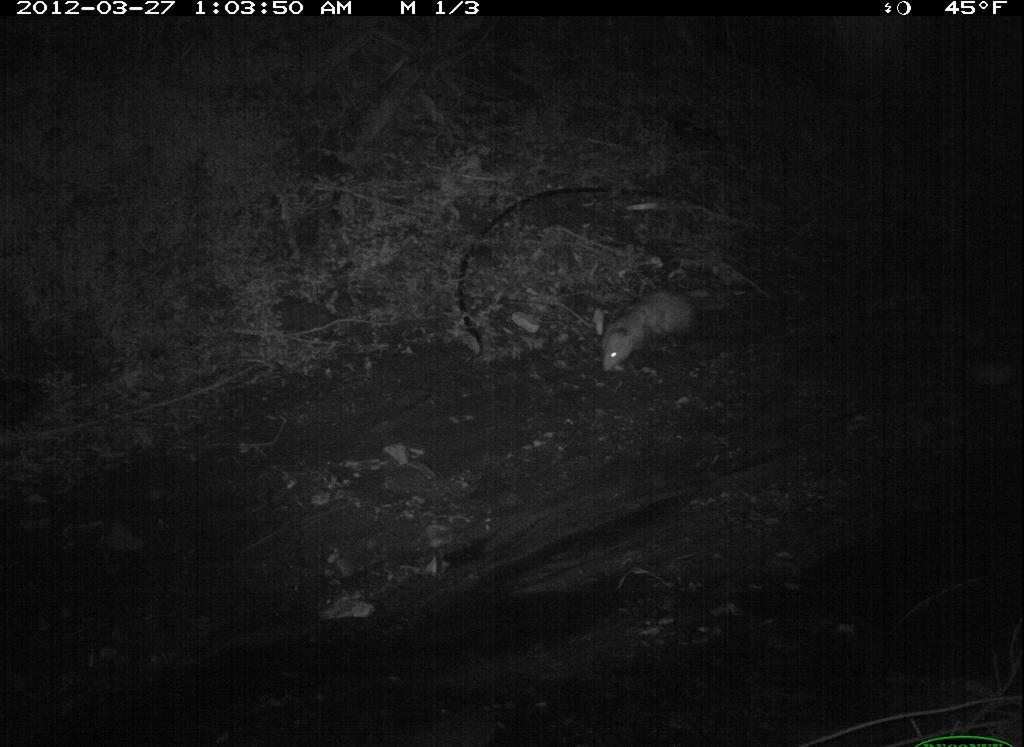opossum: (579, 269, 724, 374)
